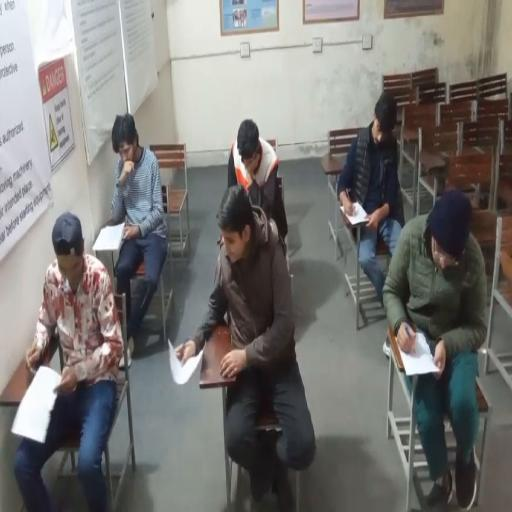paper: (12, 366, 64, 442), (399, 330, 442, 376), (166, 341, 203, 377), (93, 222, 126, 252), (341, 200, 370, 225)
